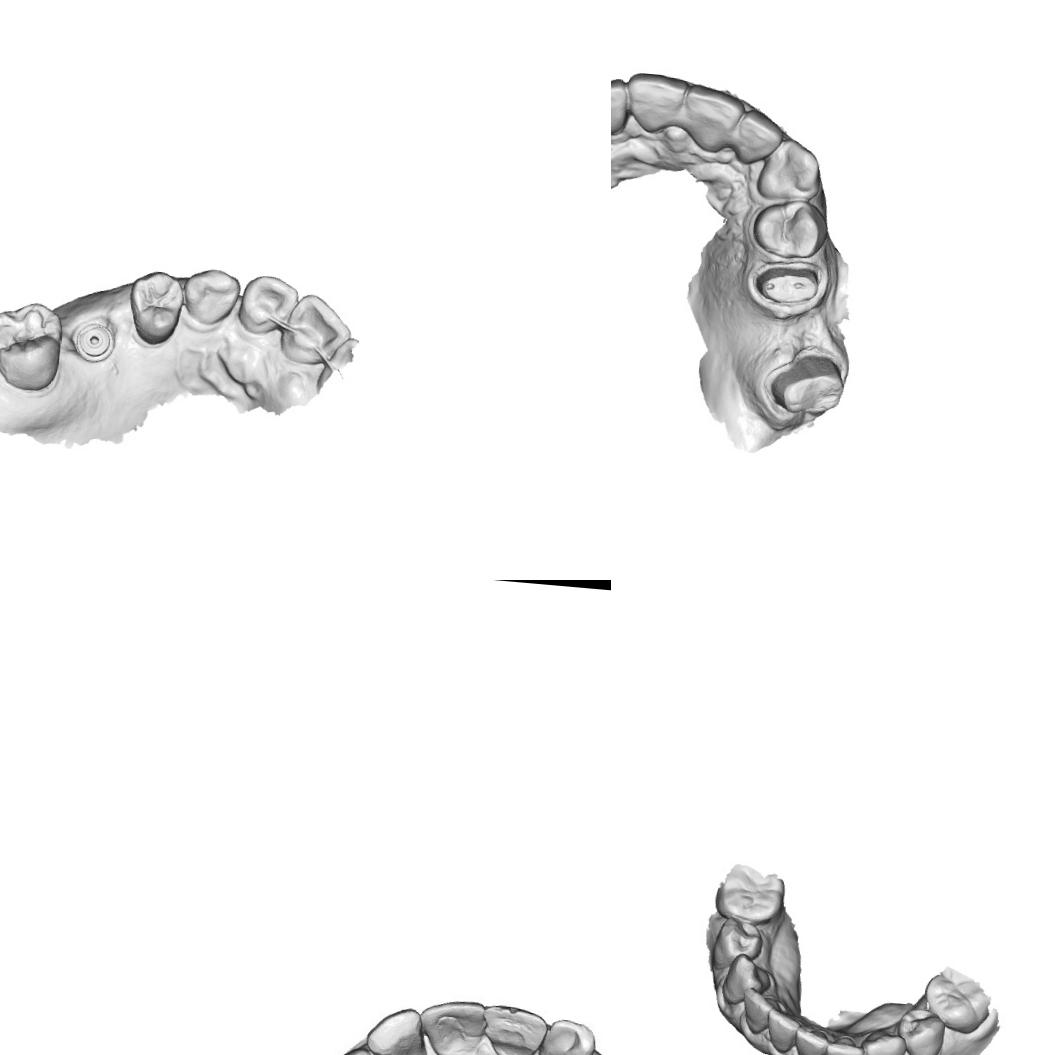canine: (754, 134, 826, 204), (178, 264, 242, 330), (718, 950, 773, 1007), (856, 1027, 908, 1055)
crown: (764, 346, 848, 420), (750, 260, 828, 311)
implant: (73, 319, 116, 364)
incisor: (280, 289, 354, 372), (620, 69, 694, 139), (679, 81, 747, 155), (235, 271, 301, 340), (730, 104, 790, 171), (420, 996, 486, 1055), (480, 1000, 544, 1055), (366, 1007, 435, 1055), (536, 1018, 590, 1055), (739, 985, 778, 1036), (764, 1007, 802, 1055), (611, 73, 631, 138), (791, 1022, 828, 1055), (823, 1032, 865, 1055)
molar: (0, 295, 67, 395), (921, 964, 992, 1035), (712, 862, 787, 928)
premolar: (749, 192, 833, 264), (121, 265, 188, 348), (708, 914, 766, 969), (894, 1005, 947, 1055)
